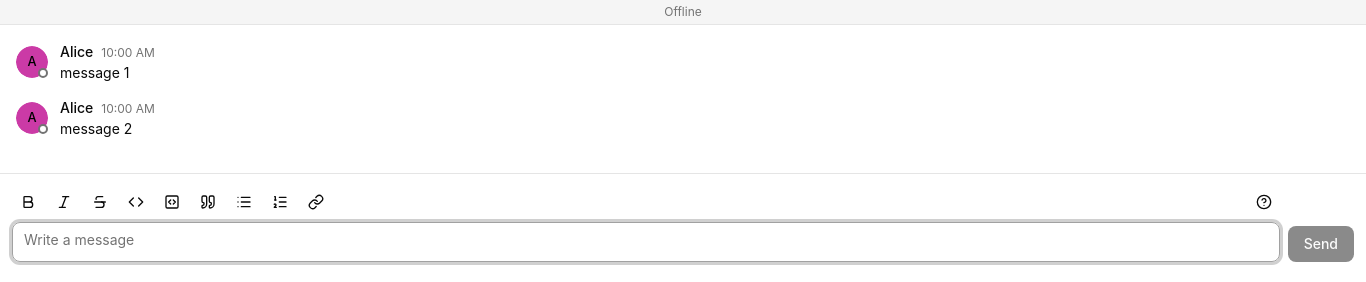
offers no collective entries in a direct message
The width and height of the screenshot is (1366, 282).
expect the text "message 2" is shown: met, box [60,120,132,137]
Type "@" into the field named "Message" at (646, 242), box [12,222,1280,262]
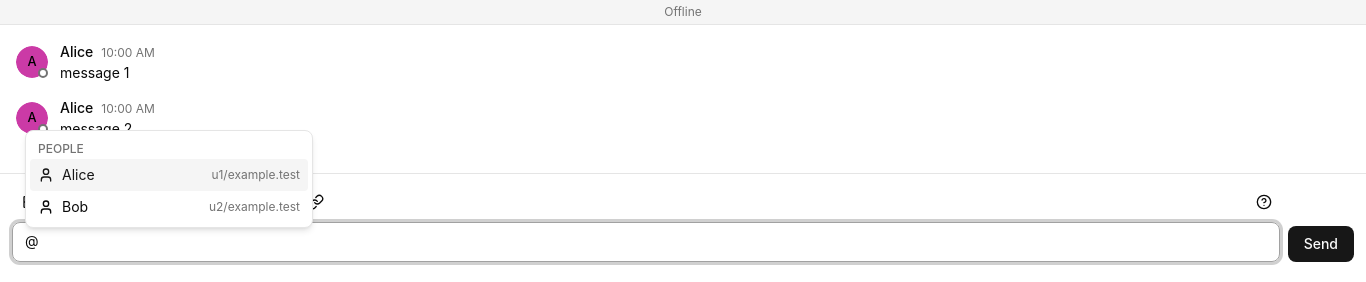
expect the list "People Alice u1/example.test Bob u2/example.test" is shown: met, box [25,130,313,228]
expect the text "People" is shown: met, box [38,141,84,156]
